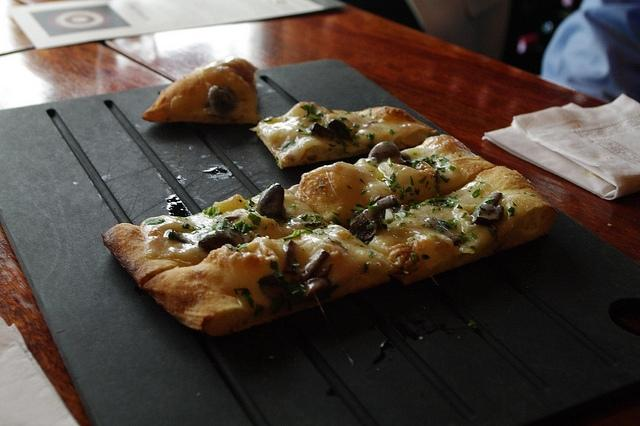mushroom: (348, 195, 400, 243), (256, 183, 288, 222), (472, 191, 504, 227), (294, 249, 330, 281), (368, 140, 412, 166), (198, 228, 245, 249), (258, 274, 287, 302), (208, 85, 237, 113), (303, 276, 331, 297), (328, 119, 351, 137), (311, 122, 335, 137), (312, 262, 333, 278)
